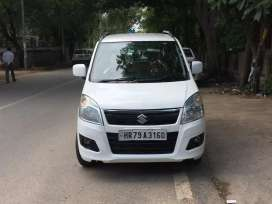license_plate: (116, 129, 169, 142)
